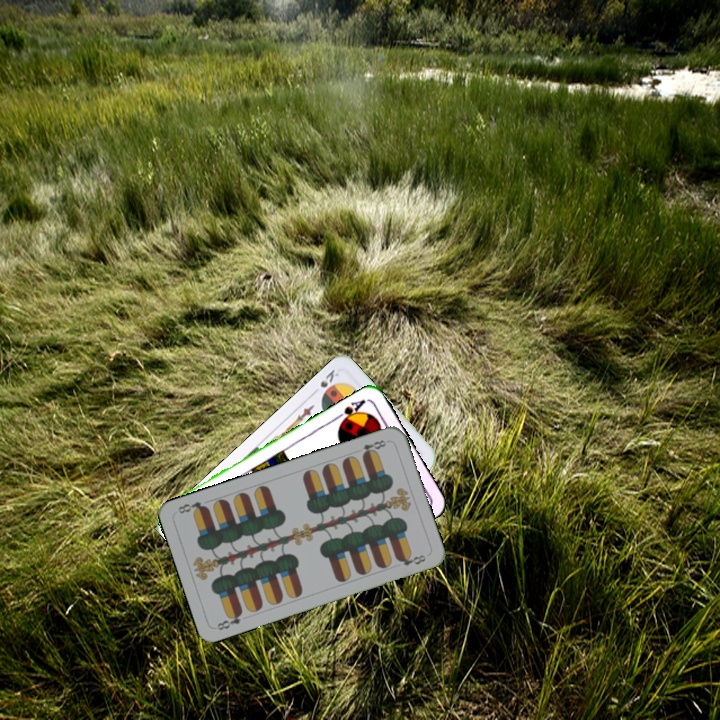E8: (213, 607, 245, 633), (358, 436, 391, 459)
SA: (332, 395, 368, 427)
SK: (308, 365, 341, 398)
